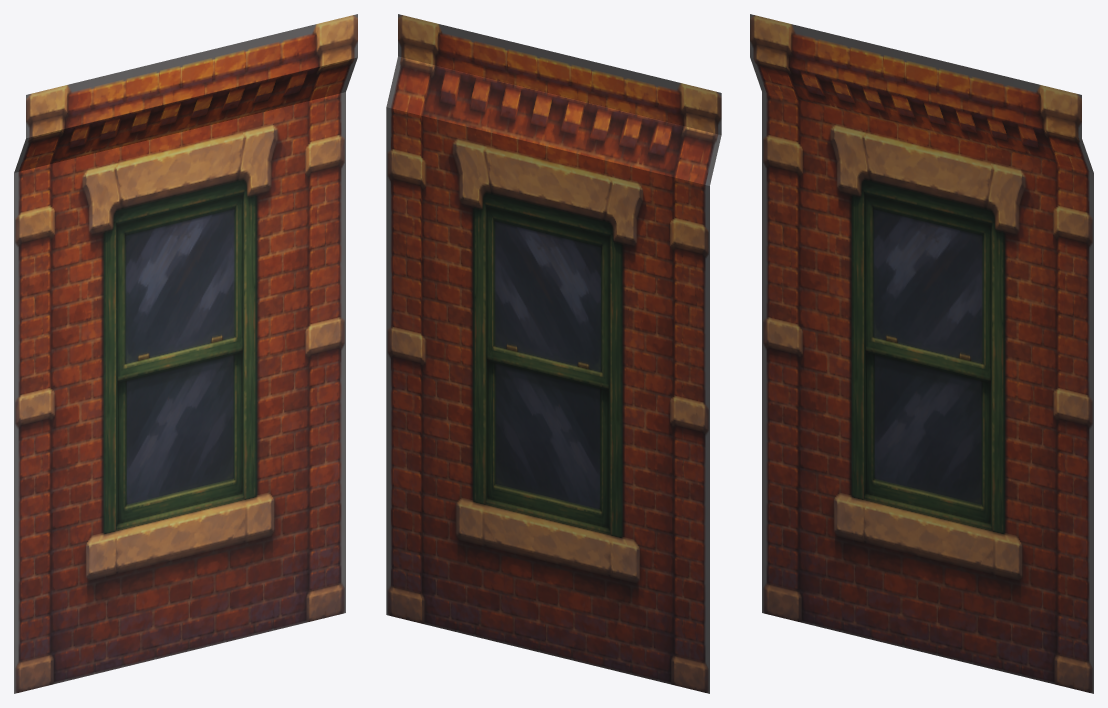
Rendered from BRK_U_Bay2A.fbx.
3 renders of one model, left to right at view 1: azimuth 30°, elevation 25°; view 2: azimuth 150°, elevation 25°; view 3: azimuth 330°, elevation 25°, orthographic. The views are drawn at different scales.
Visible parts, largest first — view 1: BRK_U_Bay2A; view 2: BRK_U_Bay2A; view 3: BRK_U_Bay2A.
Boxes of the visible parts, <box> form: BRK_U_Bay2A: <box>14,14,357,693</box>; BRK_U_Bay2A: <box>386,14,721,693</box>; BRK_U_Bay2A: <box>750,14,1093,693</box>.
Size of the model in its own units: 2 by 0.125 by 3.5.
1 material, 1 textured.
